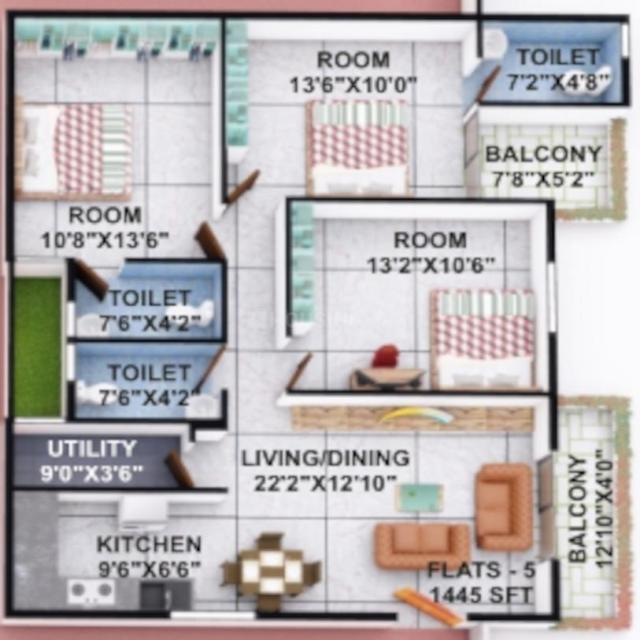Balcony-Sitout: (559, 409, 621, 619), (480, 123, 615, 203)
Bedroom: (297, 206, 546, 391)
Bedroom with Toilet: (225, 13, 625, 201), (9, 12, 225, 341)
Dining: (218, 530, 327, 617)
Enterance-Foyer: (393, 586, 472, 627)
Kitchen: (10, 492, 231, 616)
Living: (358, 404, 545, 615)
Toilet: (66, 341, 220, 420), (481, 20, 621, 101), (72, 263, 222, 335)
Utility: (11, 425, 182, 490)
